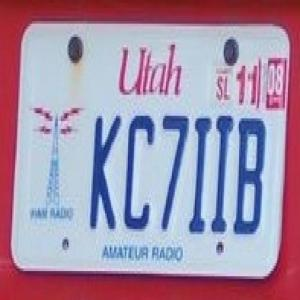Plate: (4, 8, 295, 293)
